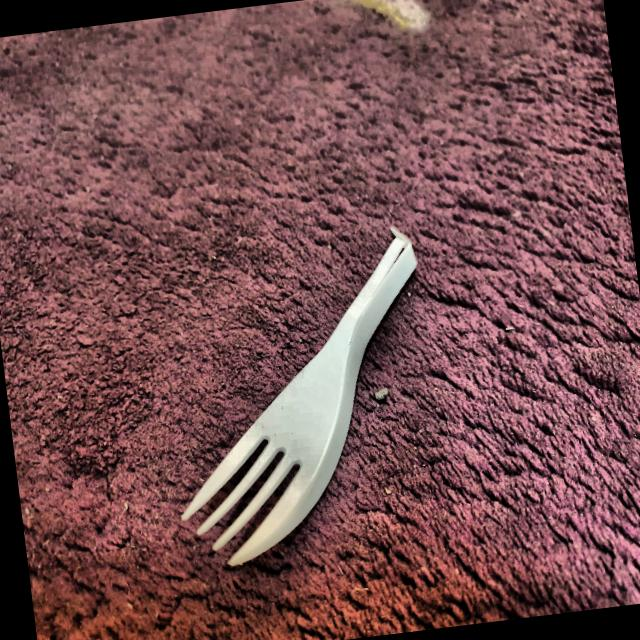plastic utensil: (144, 224, 451, 578)
